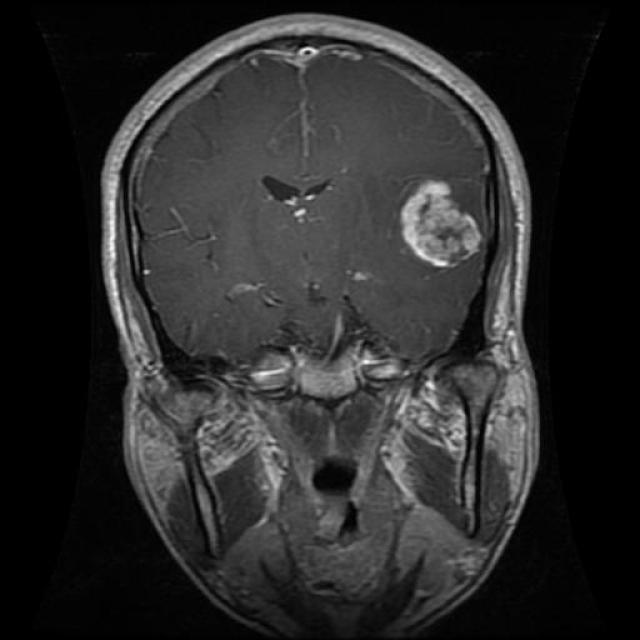glioma: (394, 174, 488, 272)
